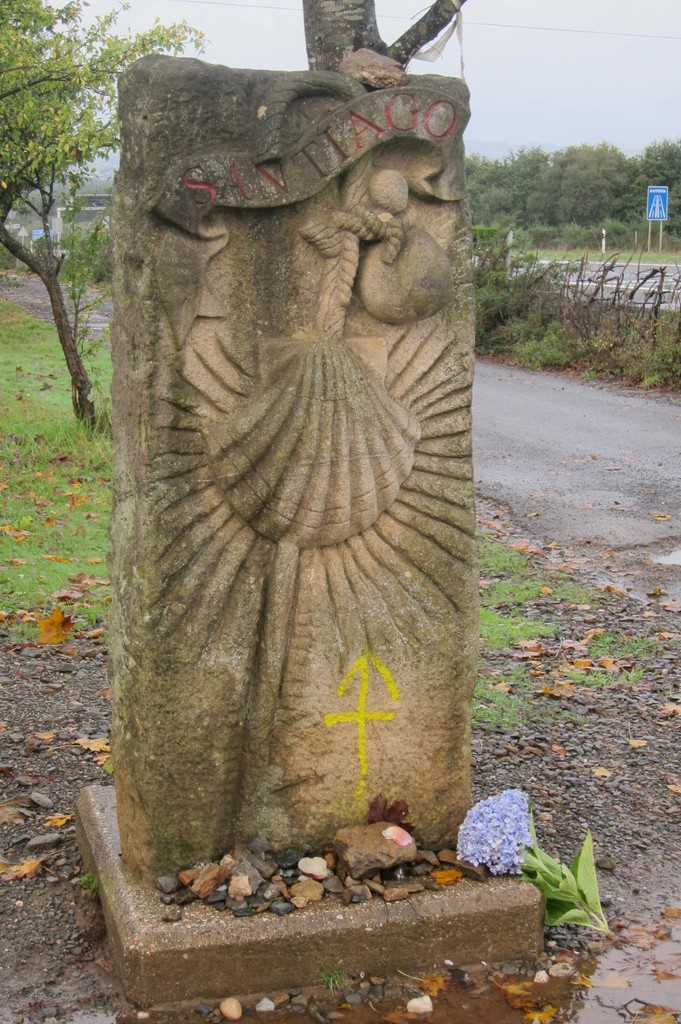Tree: (0, 0, 681, 430)
